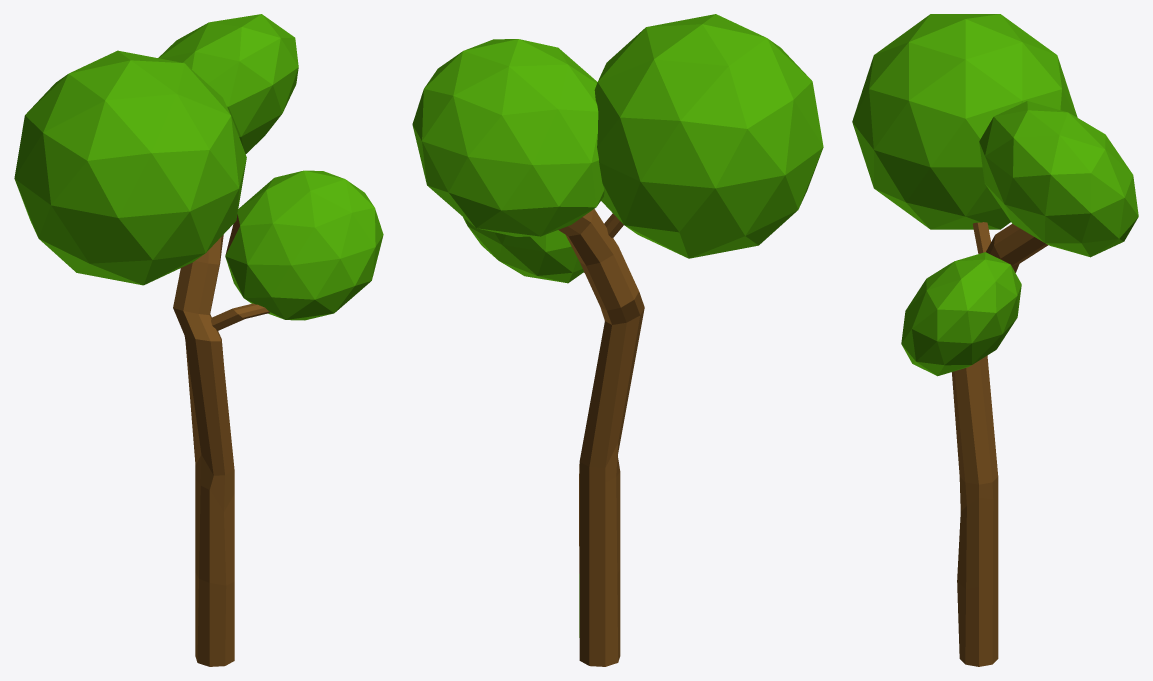
File: ArbolitoSimple.fbx
The picture shows the model from 3 angles, left to right: view 1: azimuth 30°, elevation 25°; view 2: azimuth 150°, elevation 25°; view 3: azimuth 270°, elevation 25°; orthographic projection. The views are drawn at different scales.
Parts seen in each view (by area): view 1: Cylinder.001; view 2: Cylinder.001; view 3: Cylinder.001.
Boxes of the visible parts, x1,y1,x2,y2 form: Cylinder.001: (14,14,383,666); Cylinder.001: (412,14,823,666); Cylinder.001: (852,14,1138,666).
Bounding box in the file's own units: 448 × 797 × 347.
Materials: 1 (1 with a texture image).
